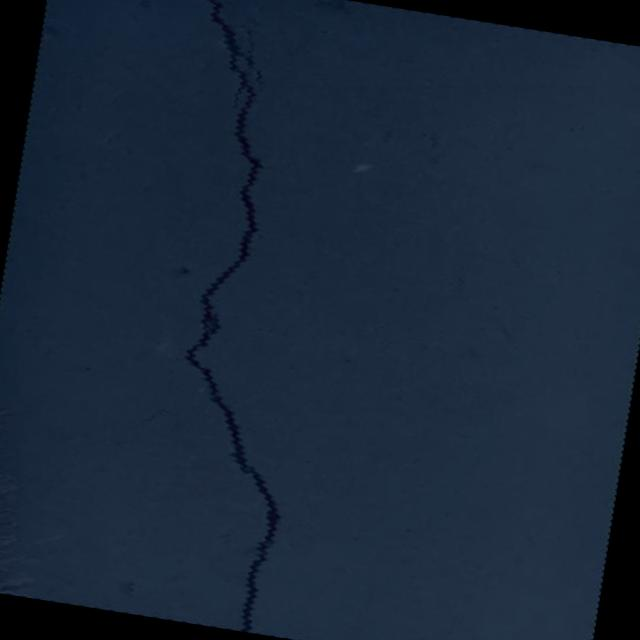crack: (62, 0, 363, 635), (112, 401, 207, 446), (0, 410, 67, 433)
